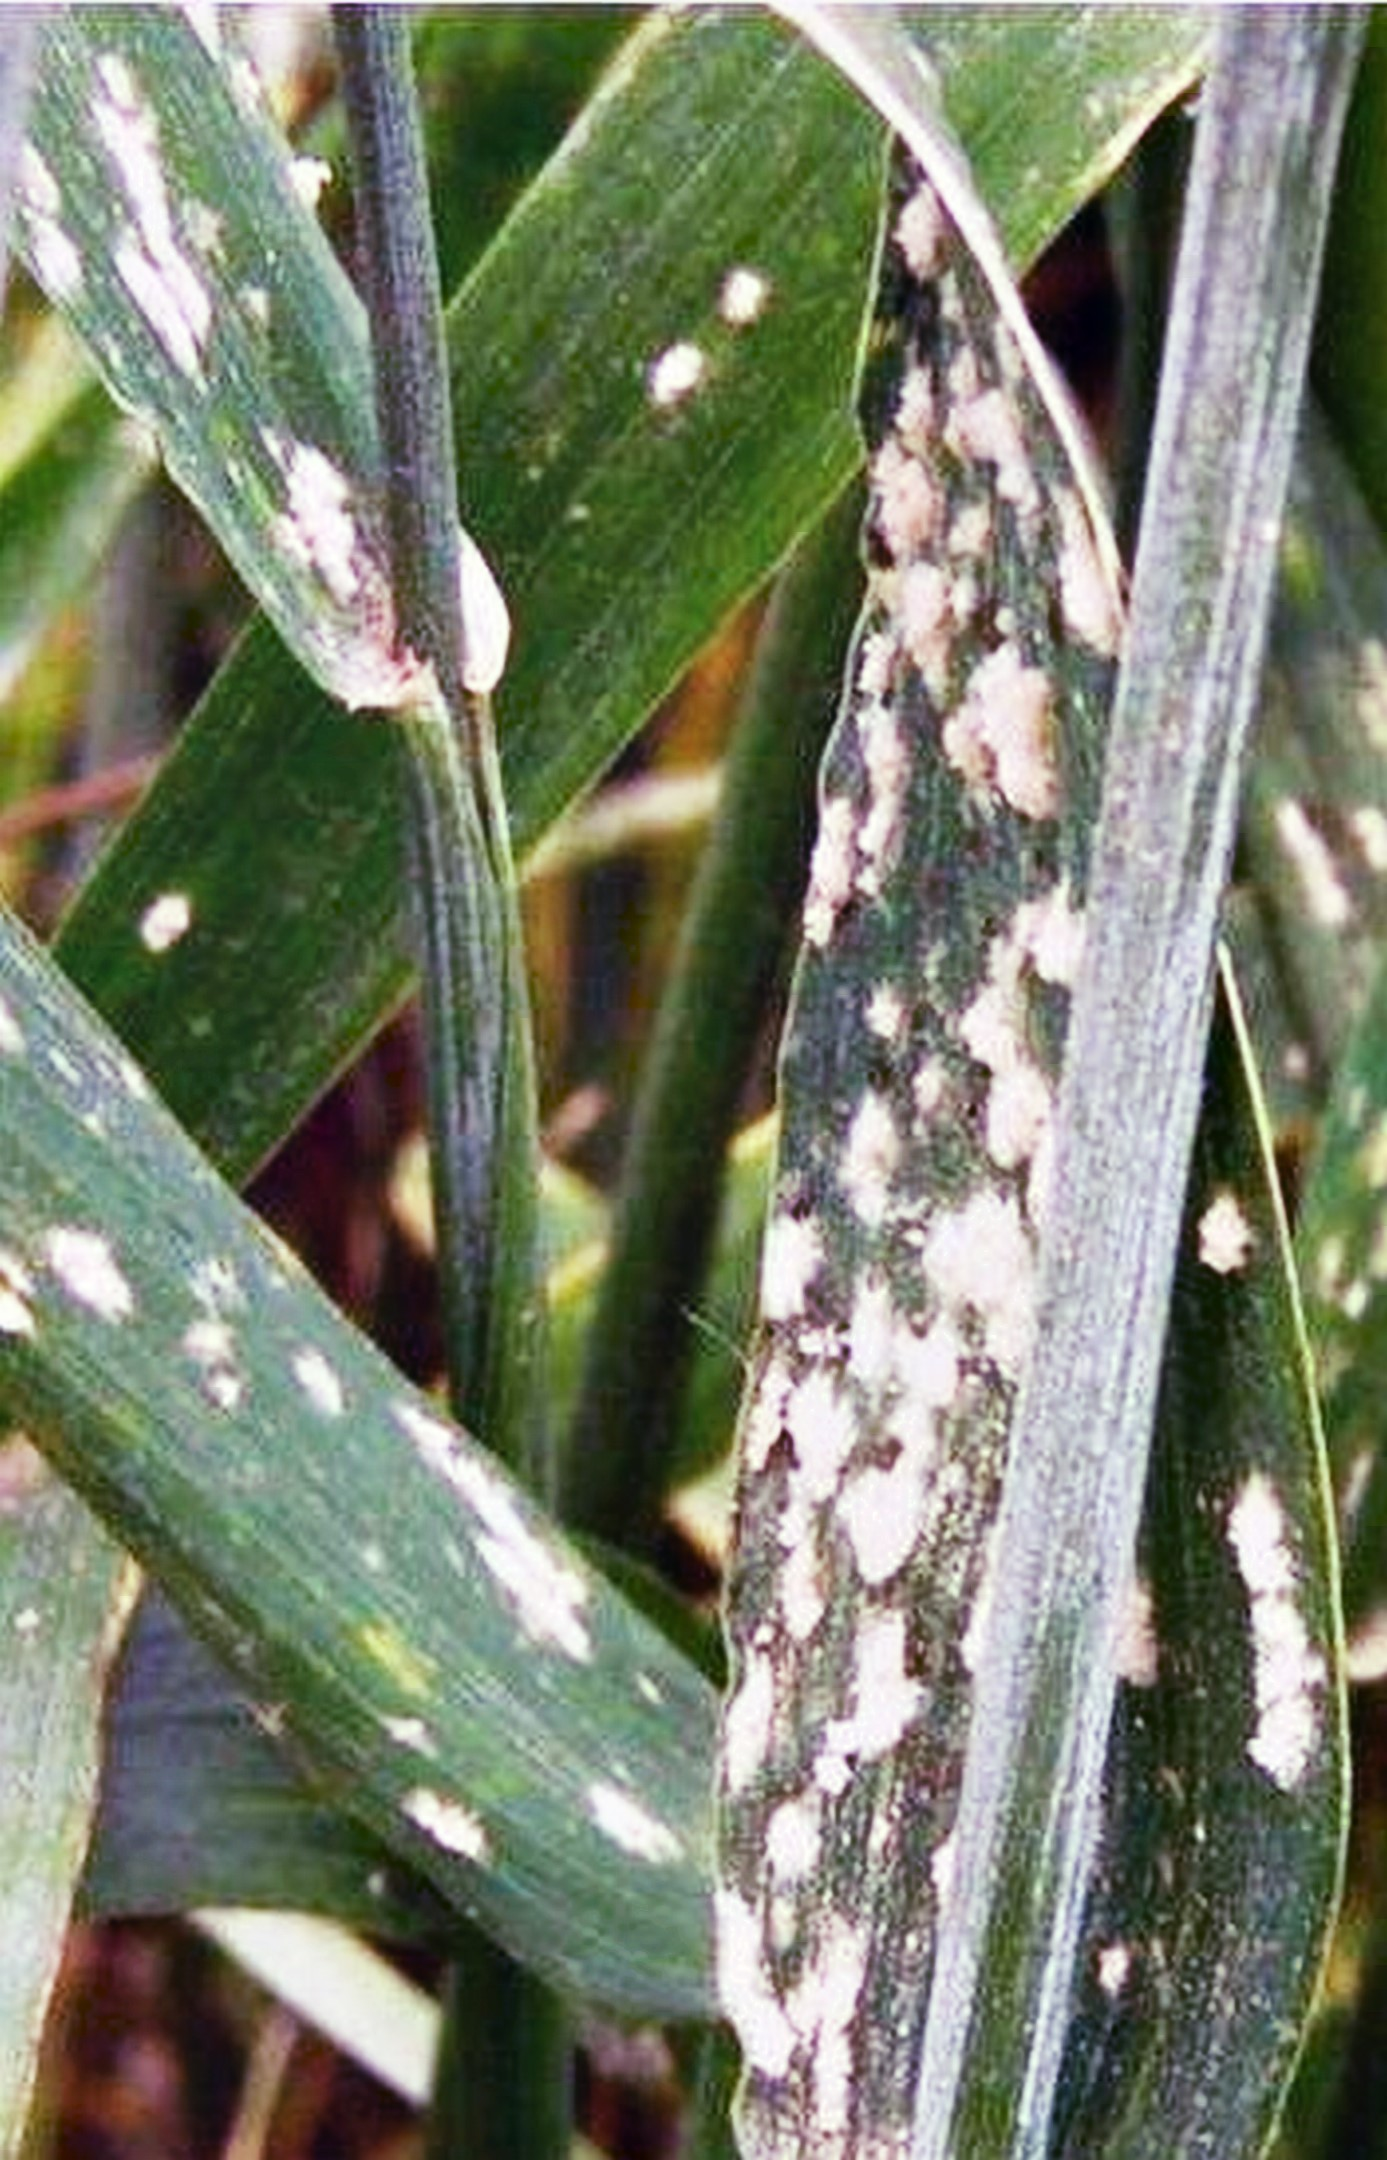Powdery Mildew: (735, 239, 1201, 1933)
